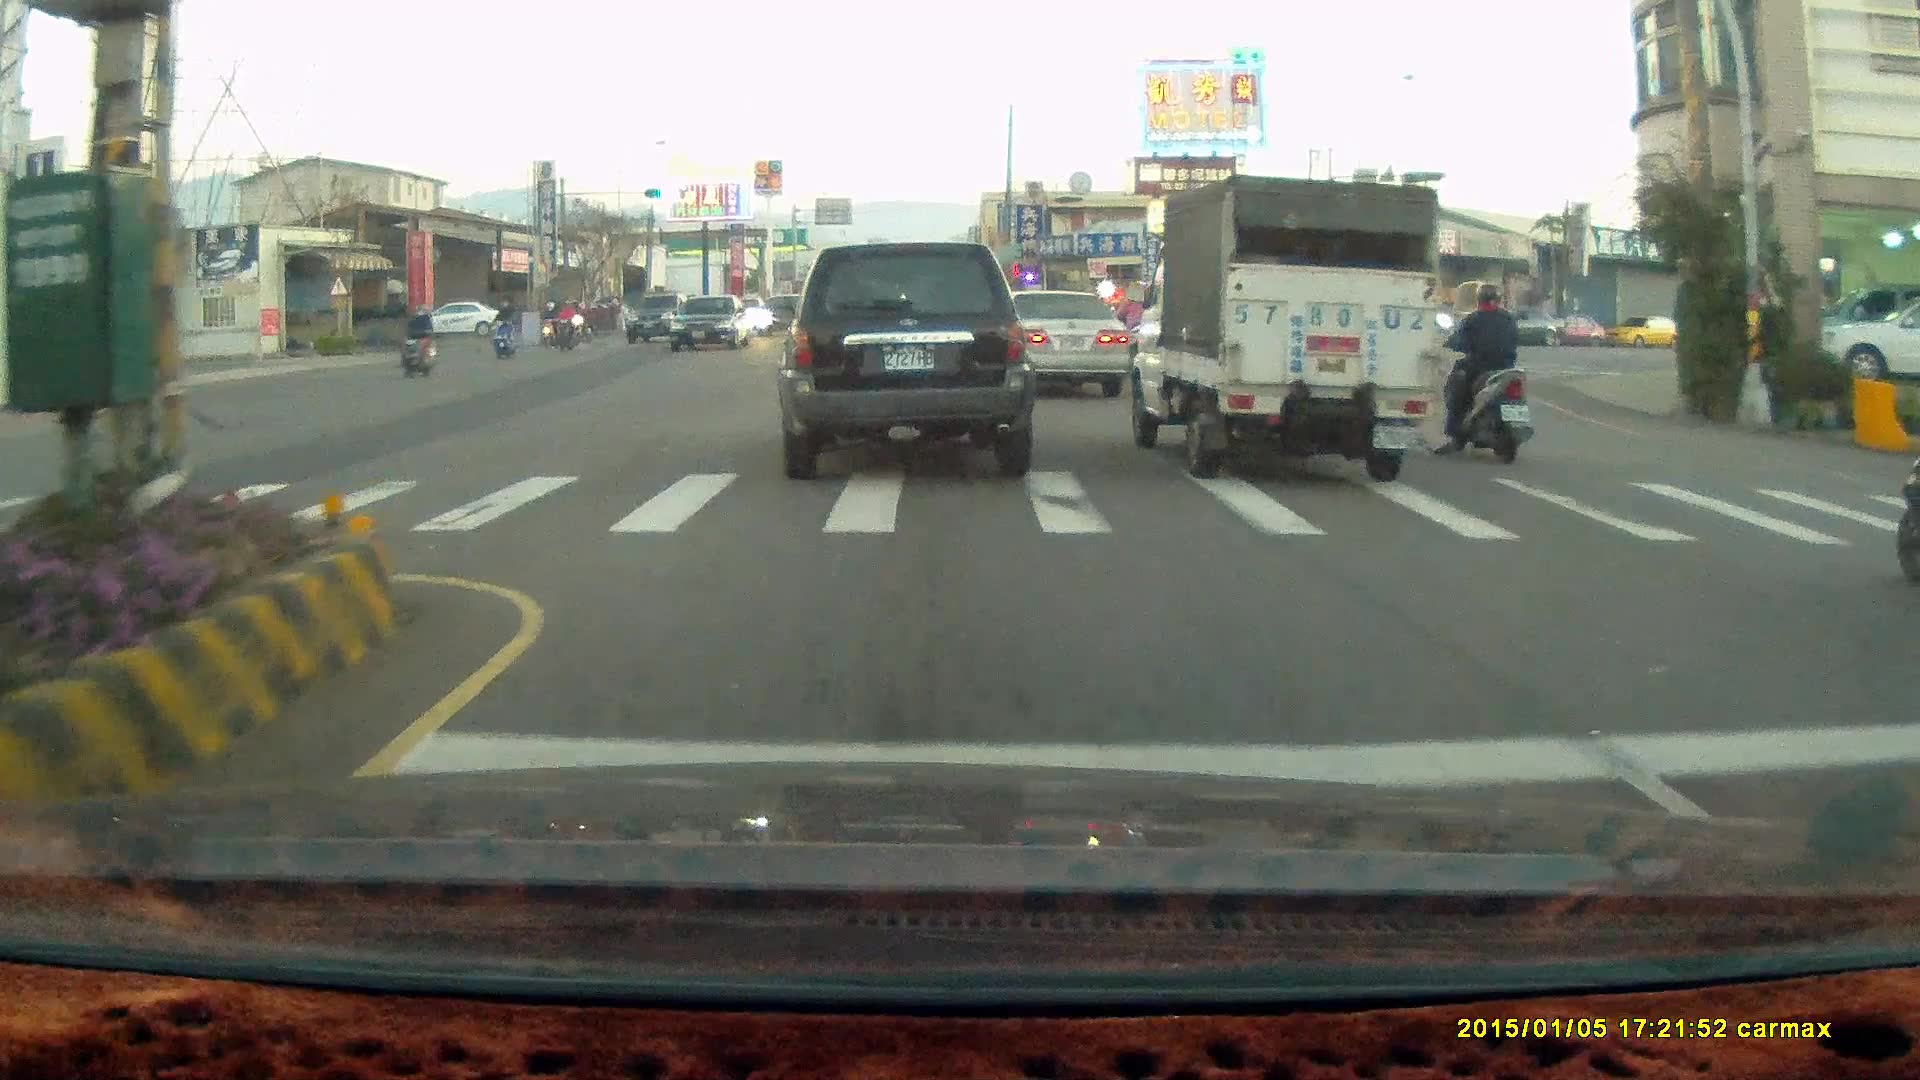rider: (1430, 280, 1535, 470), (402, 306, 437, 375), (487, 299, 515, 360), (552, 297, 580, 351), (537, 299, 565, 348)
vehicle: (1125, 172, 1438, 479), (775, 240, 1037, 478), (983, 289, 1126, 397), (994, 290, 1133, 399), (1819, 297, 1920, 387), (34, 314, 129, 399), (668, 294, 753, 355), (1464, 309, 1571, 351), (430, 301, 507, 340)
